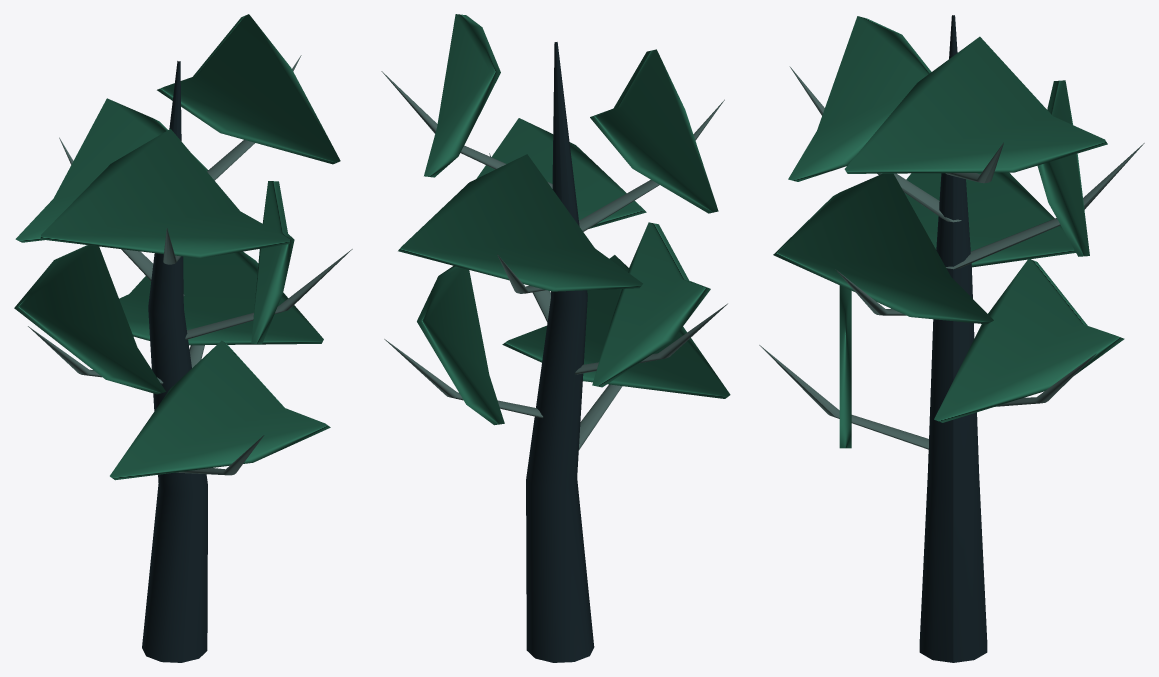
File: prop_0_0.glb
3 renders of one model, left to right at view 1: azimuth 30°, elevation 25°; view 2: azimuth 150°, elevation 25°; view 3: azimuth 270°, elevation 25°, orthographic. The views are drawn at different scales.
Parts seen in each view (by area): view 1: BladeFoliage (×7), TwistedTrunk, DeadBranch (×5); view 2: BladeFoliage (×7), TwistedTrunk, DeadBranch (×5); view 3: BladeFoliage (×7), TwistedTrunk, DeadBranch (×4).
Part boxes in pixels (x1=…): BladeFoliage (×7): x1=14, y1=14, x2=340, y2=480; TwistedTrunk: x1=142, y1=61, x2=207, y2=662; DeadBranch (×5): x1=28, y1=55, x2=352, y2=475; BladeFoliage (×7): x1=398, y1=14, x2=730, y2=425; TwistedTrunk: x1=526, y1=42, x2=594, y2=662; DeadBranch (×5): x1=381, y1=71, x2=727, y2=450; BladeFoliage (×7): x1=773, y1=16, x2=1124, y2=448; TwistedTrunk: x1=919, y1=15, x2=987, y2=662; DeadBranch (×4): x1=759, y1=66, x2=1144, y2=449.
Size of the model in its own units: 3.54 by 6.68 by 3.58.
